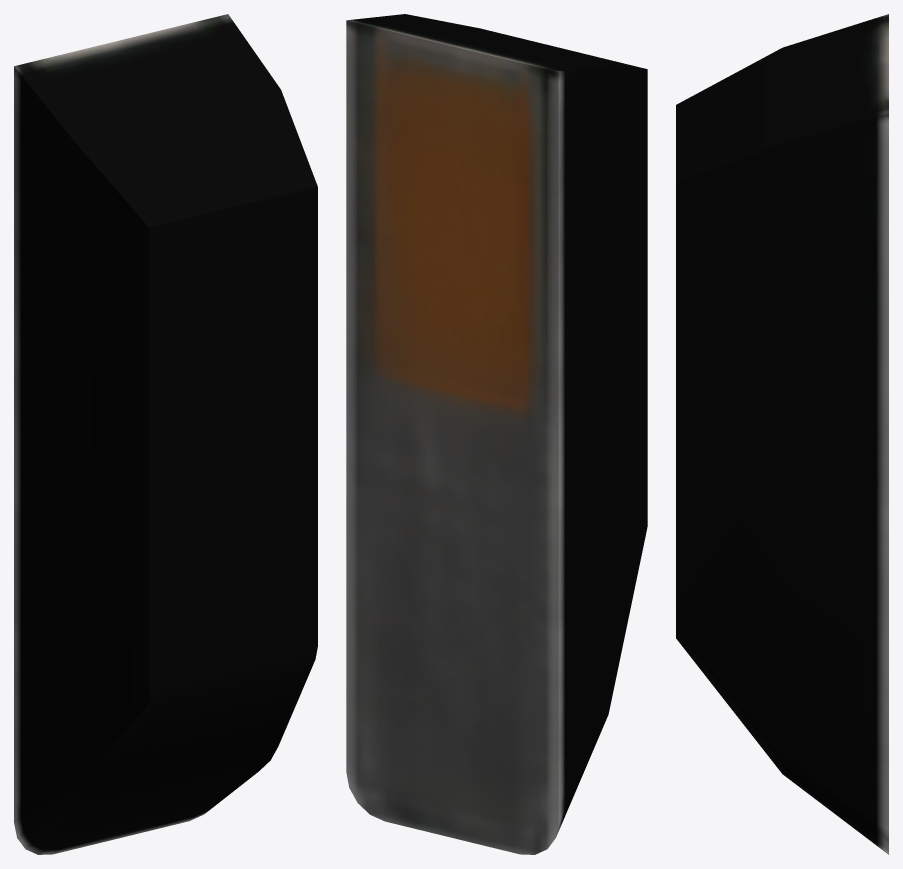
The model's file is black_key_7_part__black_key.glb.
The picture shows the model from 3 angles, left to right: view 1: azimuth 30°, elevation 25°; view 2: azimuth 150°, elevation 25°; view 3: azimuth 270°, elevation 25°; orthographic projection. The views are drawn at different scales.
Visible parts, largest first — view 1: geometry_0; view 2: geometry_0; view 3: geometry_0.
Part boxes in pixels (box(x1,y1,x2,y2)): geometry_0: box(14, 14, 317, 854); geometry_0: box(346, 14, 647, 854); geometry_0: box(676, 14, 888, 854).
Bounding box in the file's own units: 0.0132 × 0.047 × 0.012.
Materials: 1 (1 with a texture image).
